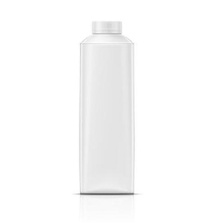carton: (79, 16, 138, 197)
